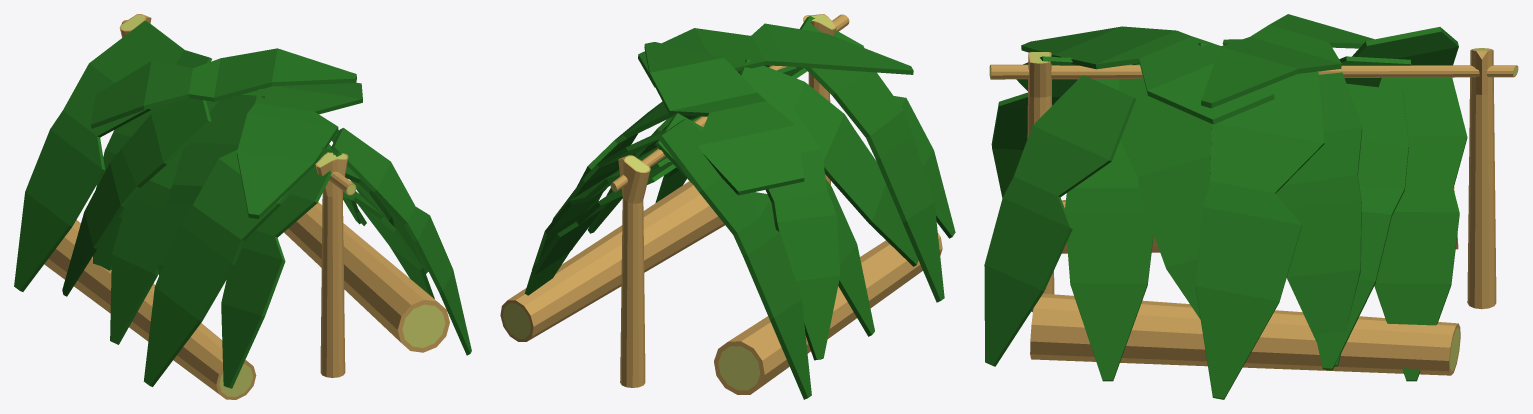
File: Tent.fbx
3 renders of one model, left to right at view 1: azimuth 30°, elevation 25°; view 2: azimuth 150°, elevation 25°; view 3: azimuth 270°, elevation 25°, orthographic. The views are drawn at different scales.
Parts seen in each view (by area): view 1: Cylinder.011; view 2: Cylinder.011; view 3: Cylinder.011.
Boxes of the visible parts, left/top/right/bottom form: Cylinder.011: left=14, top=14, right=471, bottom=399; Cylinder.011: left=500, top=14, right=955, bottom=399; Cylinder.011: left=984, top=14, right=1518, bottom=399.
Size of the model in its own units: 242 by 293 by 165.
